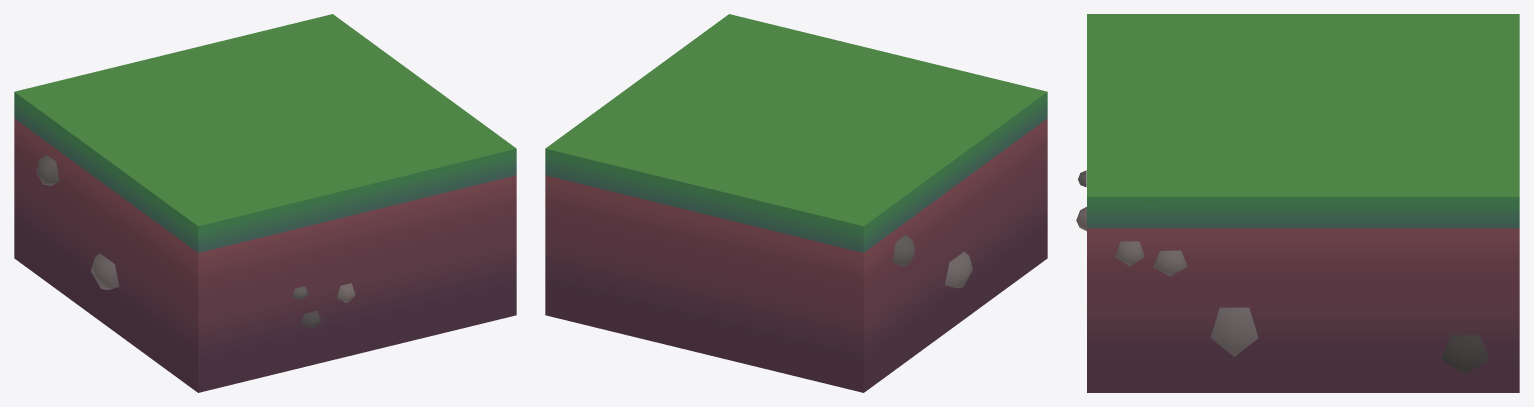
File: village_town_tile.glb
The picture shows the model from 3 angles, left to right: view 1: azimuth 30°, elevation 25°; view 2: azimuth 150°, elevation 25°; view 3: azimuth 270°, elevation 25°; orthographic projection. The views are drawn at different scales.
Parts seen in each view (by area): view 1: Tile.002_Material.005_0; view 2: Tile.002_Material.005_0; view 3: Tile.002_Material.005_0.
Part boxes in pixels (x1,y1,x2,y2): Tile.002_Material.005_0: (14, 14, 516, 392); Tile.002_Material.005_0: (545, 14, 1047, 392); Tile.002_Material.005_0: (1076, 14, 1519, 392).
Size of the model in its own units: 2.14 by 0.9999 by 2.05.
1 material, 1 textured.
